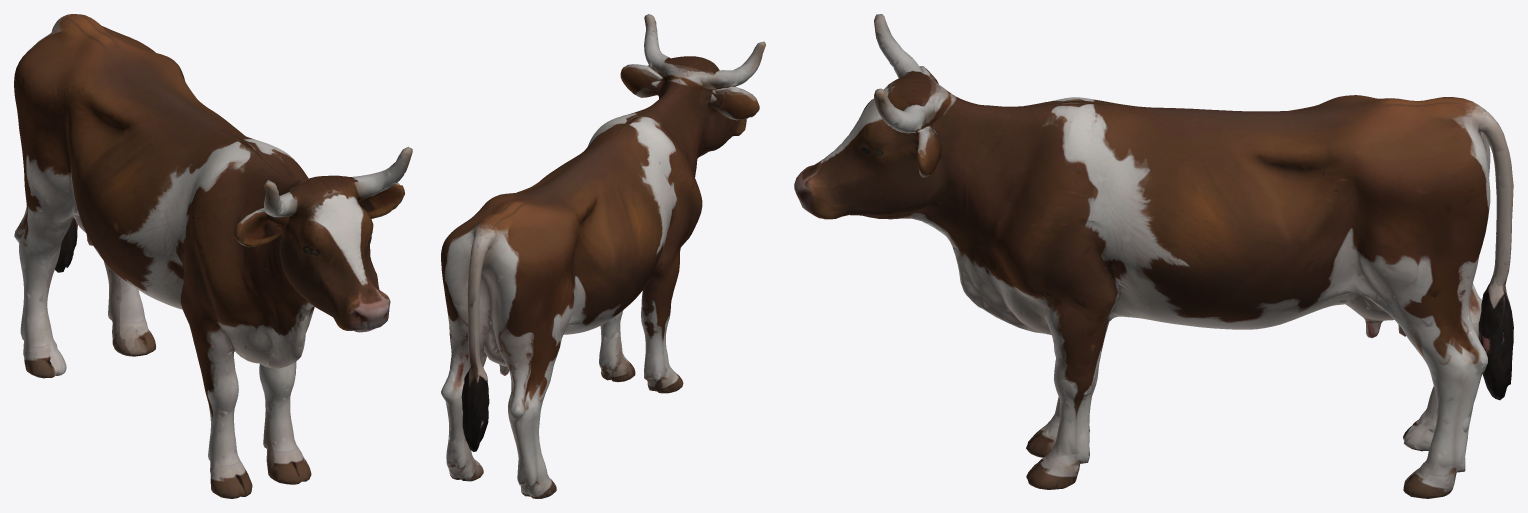
The model's file is vaca.glb.
3 renders of one model, left to right at view 1: azimuth 30°, elevation 25°; view 2: azimuth 150°, elevation 25°; view 3: azimuth 270°, elevation 25°, orthographic. The views are drawn at different scales.
Visible parts, largest first — view 1: vaca; view 2: vaca; view 3: vaca.
Boxes of the visible parts, left/top/right/bottom form: vaca: left=14, top=14, right=412, bottom=498; vaca: left=441, top=14, right=765, bottom=498; vaca: left=794, top=14, right=1513, bottom=498.
Bounding box in the file's own units: 0.6852 × 1.45 × 2.27.
Materials: 1 (1 with a texture image).
